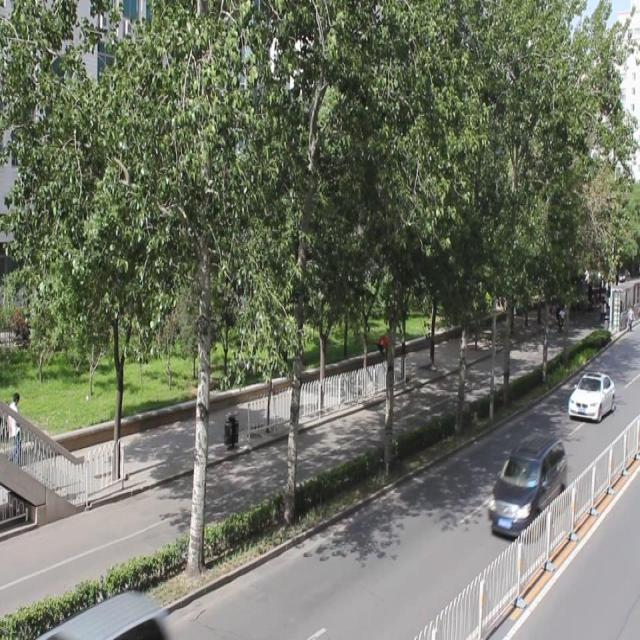car: (486, 431, 564, 534), (52, 589, 170, 640), (566, 367, 614, 422)
